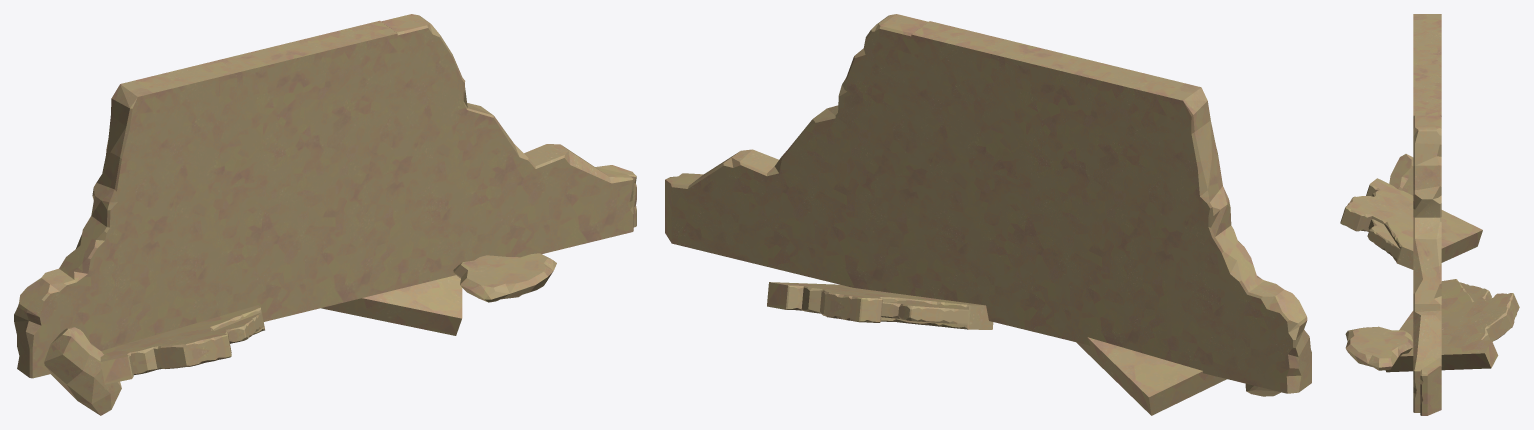
Rendered from ExpoInside.fbx.
3 renders of one model, left to right at view 1: azimuth 30°, elevation 25°; view 2: azimuth 150°, elevation 25°; view 3: azimuth 270°, elevation 25°, orthographic. The views are drawn at different scales.
Parts seen in each view (by area): view 1: Wall, BrokenWall_B_Corner_R, BrokenWall_Half, Floor_Broken_F__1_, Floor_Broken_F, RubbleWallA, RubbleFloorA; view 2: Wall, BrokenWall_B_Corner_R, BrokenWall_Half, Floor_Broken_F, Floor_Broken_F__1_; view 3: BrokenWall_B_Corner_R, Floor_Broken_F, Floor_Broken_F__1_, Wall, RubbleFloorA, RubbleWallA.
Boxes of the visible parts, left/top/right/bottom form: Wall: left=136, top=20, right=397, bottom=335; BrokenWall_B_Corner_R: left=381, top=14, right=636, bottom=289; BrokenWall_Half: left=14, top=80, right=152, bottom=378; Floor_Broken_F__1_: left=100, top=305, right=264, bottom=384; Floor_Broken_F: left=321, top=275, right=462, bottom=335; RubbleWallA: left=44, top=327, right=121, bottom=415; RubbleFloorA: left=453, top=253, right=556, bottom=302; Wall: left=911, top=21, right=1184, bottom=360; BrokenWall_B_Corner_R: left=665, top=14, right=928, bottom=295; BrokenWall_Half: left=1167, top=83, right=1311, bottom=393; Floor_Broken_F: left=767, top=282, right=993, bottom=329; Floor_Broken_F__1_: left=1076, top=337, right=1226, bottom=415; BrokenWall_B_Corner_R: left=1413, top=115, right=1441, bottom=415; Floor_Broken_F: left=1385, top=279, right=1519, bottom=372; Floor_Broken_F__1_: left=1340, top=178, right=1482, bottom=269; Wall: left=1413, top=20, right=1441, bottom=116; RubbleFloorA: left=1345, top=326, right=1413, bottom=370; RubbleWallA: left=1389, top=154, right=1413, bottom=195.
Size of the model in its own units: 600 by 282 by 190.
7 materials, 7 textured.
